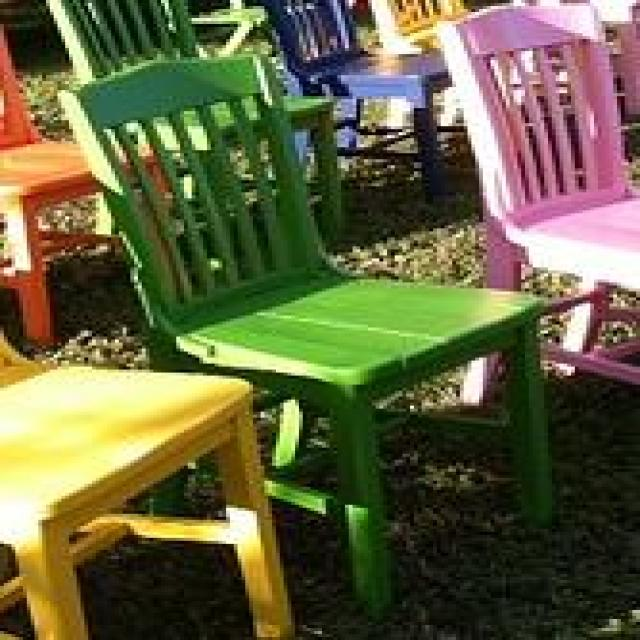chair: (53, 51, 556, 616)
